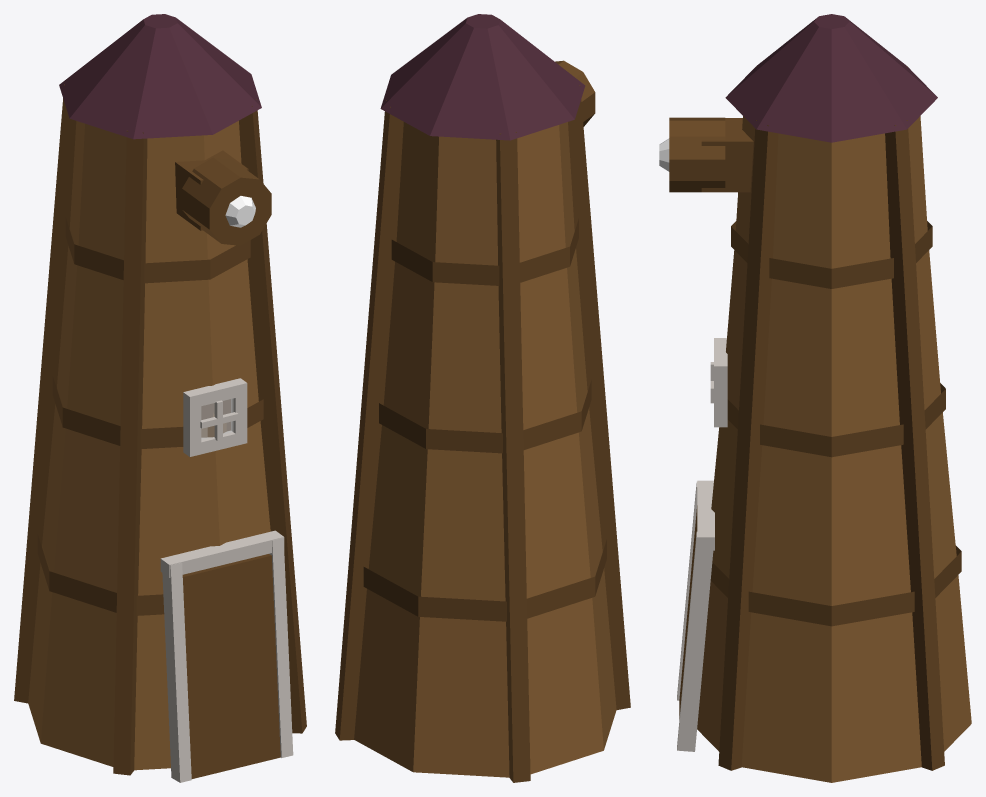
File: windmill.glb
3 views of the same model, side by side, from view 1: azimuth 30°, elevation 25°; view 2: azimuth 150°, elevation 25°; view 3: azimuth 270°, elevation 25° (orthographic).
Parts seen in each view (by area): view 1: Windmill; view 2: Windmill; view 3: Windmill.
Part boxes in pixels (left/top/right/bottom): Windmill: left=14, top=14, right=306, bottom=782; Windmill: left=335, top=14, right=630, bottom=782; Windmill: left=659, top=14, right=971, bottom=782.
Size of the model in its own units: 2.5 by 6.92 by 2.79.
